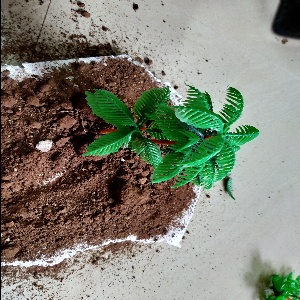plant: (81, 74, 259, 184)
